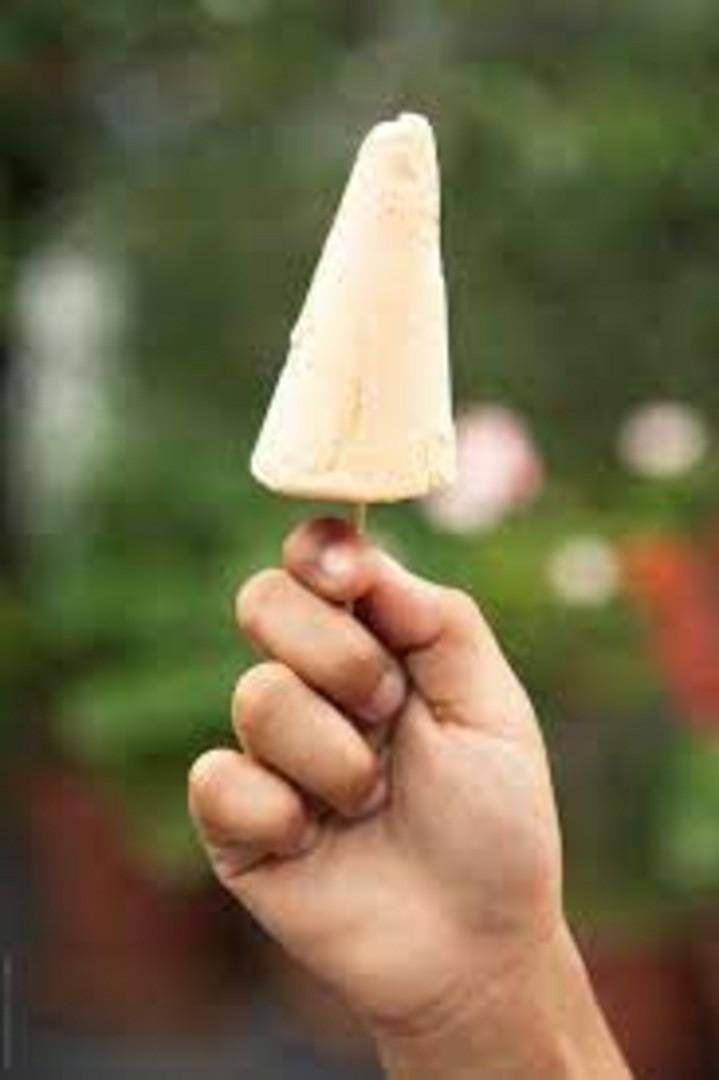Kulfi: (248, 110, 458, 502)
